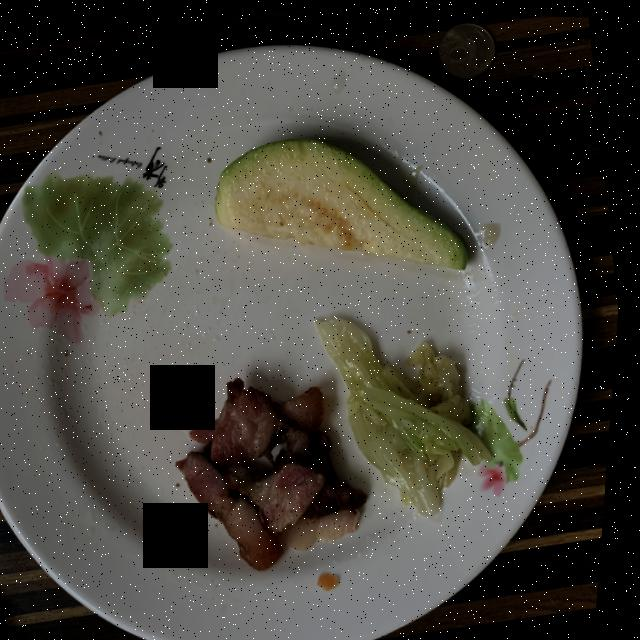cabbage: (320, 316, 527, 509)
coin: (437, 19, 494, 75)
grilled pork: (182, 376, 374, 568)
guava -sliced-: (217, 136, 470, 267)
